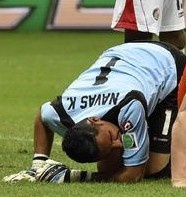falling: (0, 27, 185, 186)
